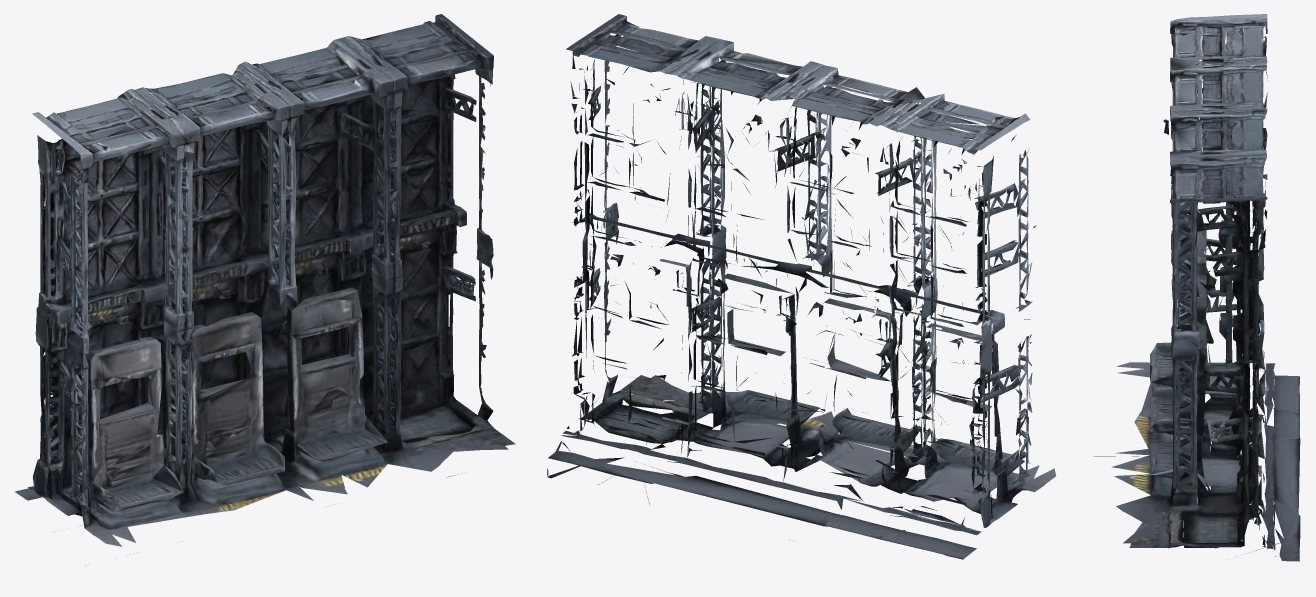
The model's file is hangar_wall_section.glb.
3 renders of one model, left to right at view 1: azimuth 30°, elevation 25°; view 2: azimuth 150°, elevation 25°; view 3: azimuth 270°, elevation 25°, orthographic. The views are drawn at different scales.
Parts seen in each view (by area): view 1: wall; view 2: wall; view 3: wall.
Part boxes in pixels (bbox=[...]): wall: bbox=[14, 14, 515, 565]; wall: bbox=[547, 14, 1055, 559]; wall: bbox=[1094, 14, 1300, 561].
Bounding box in the file's own units: 0.81 × 0.783 × 0.397.
1 material, 1 textured.
